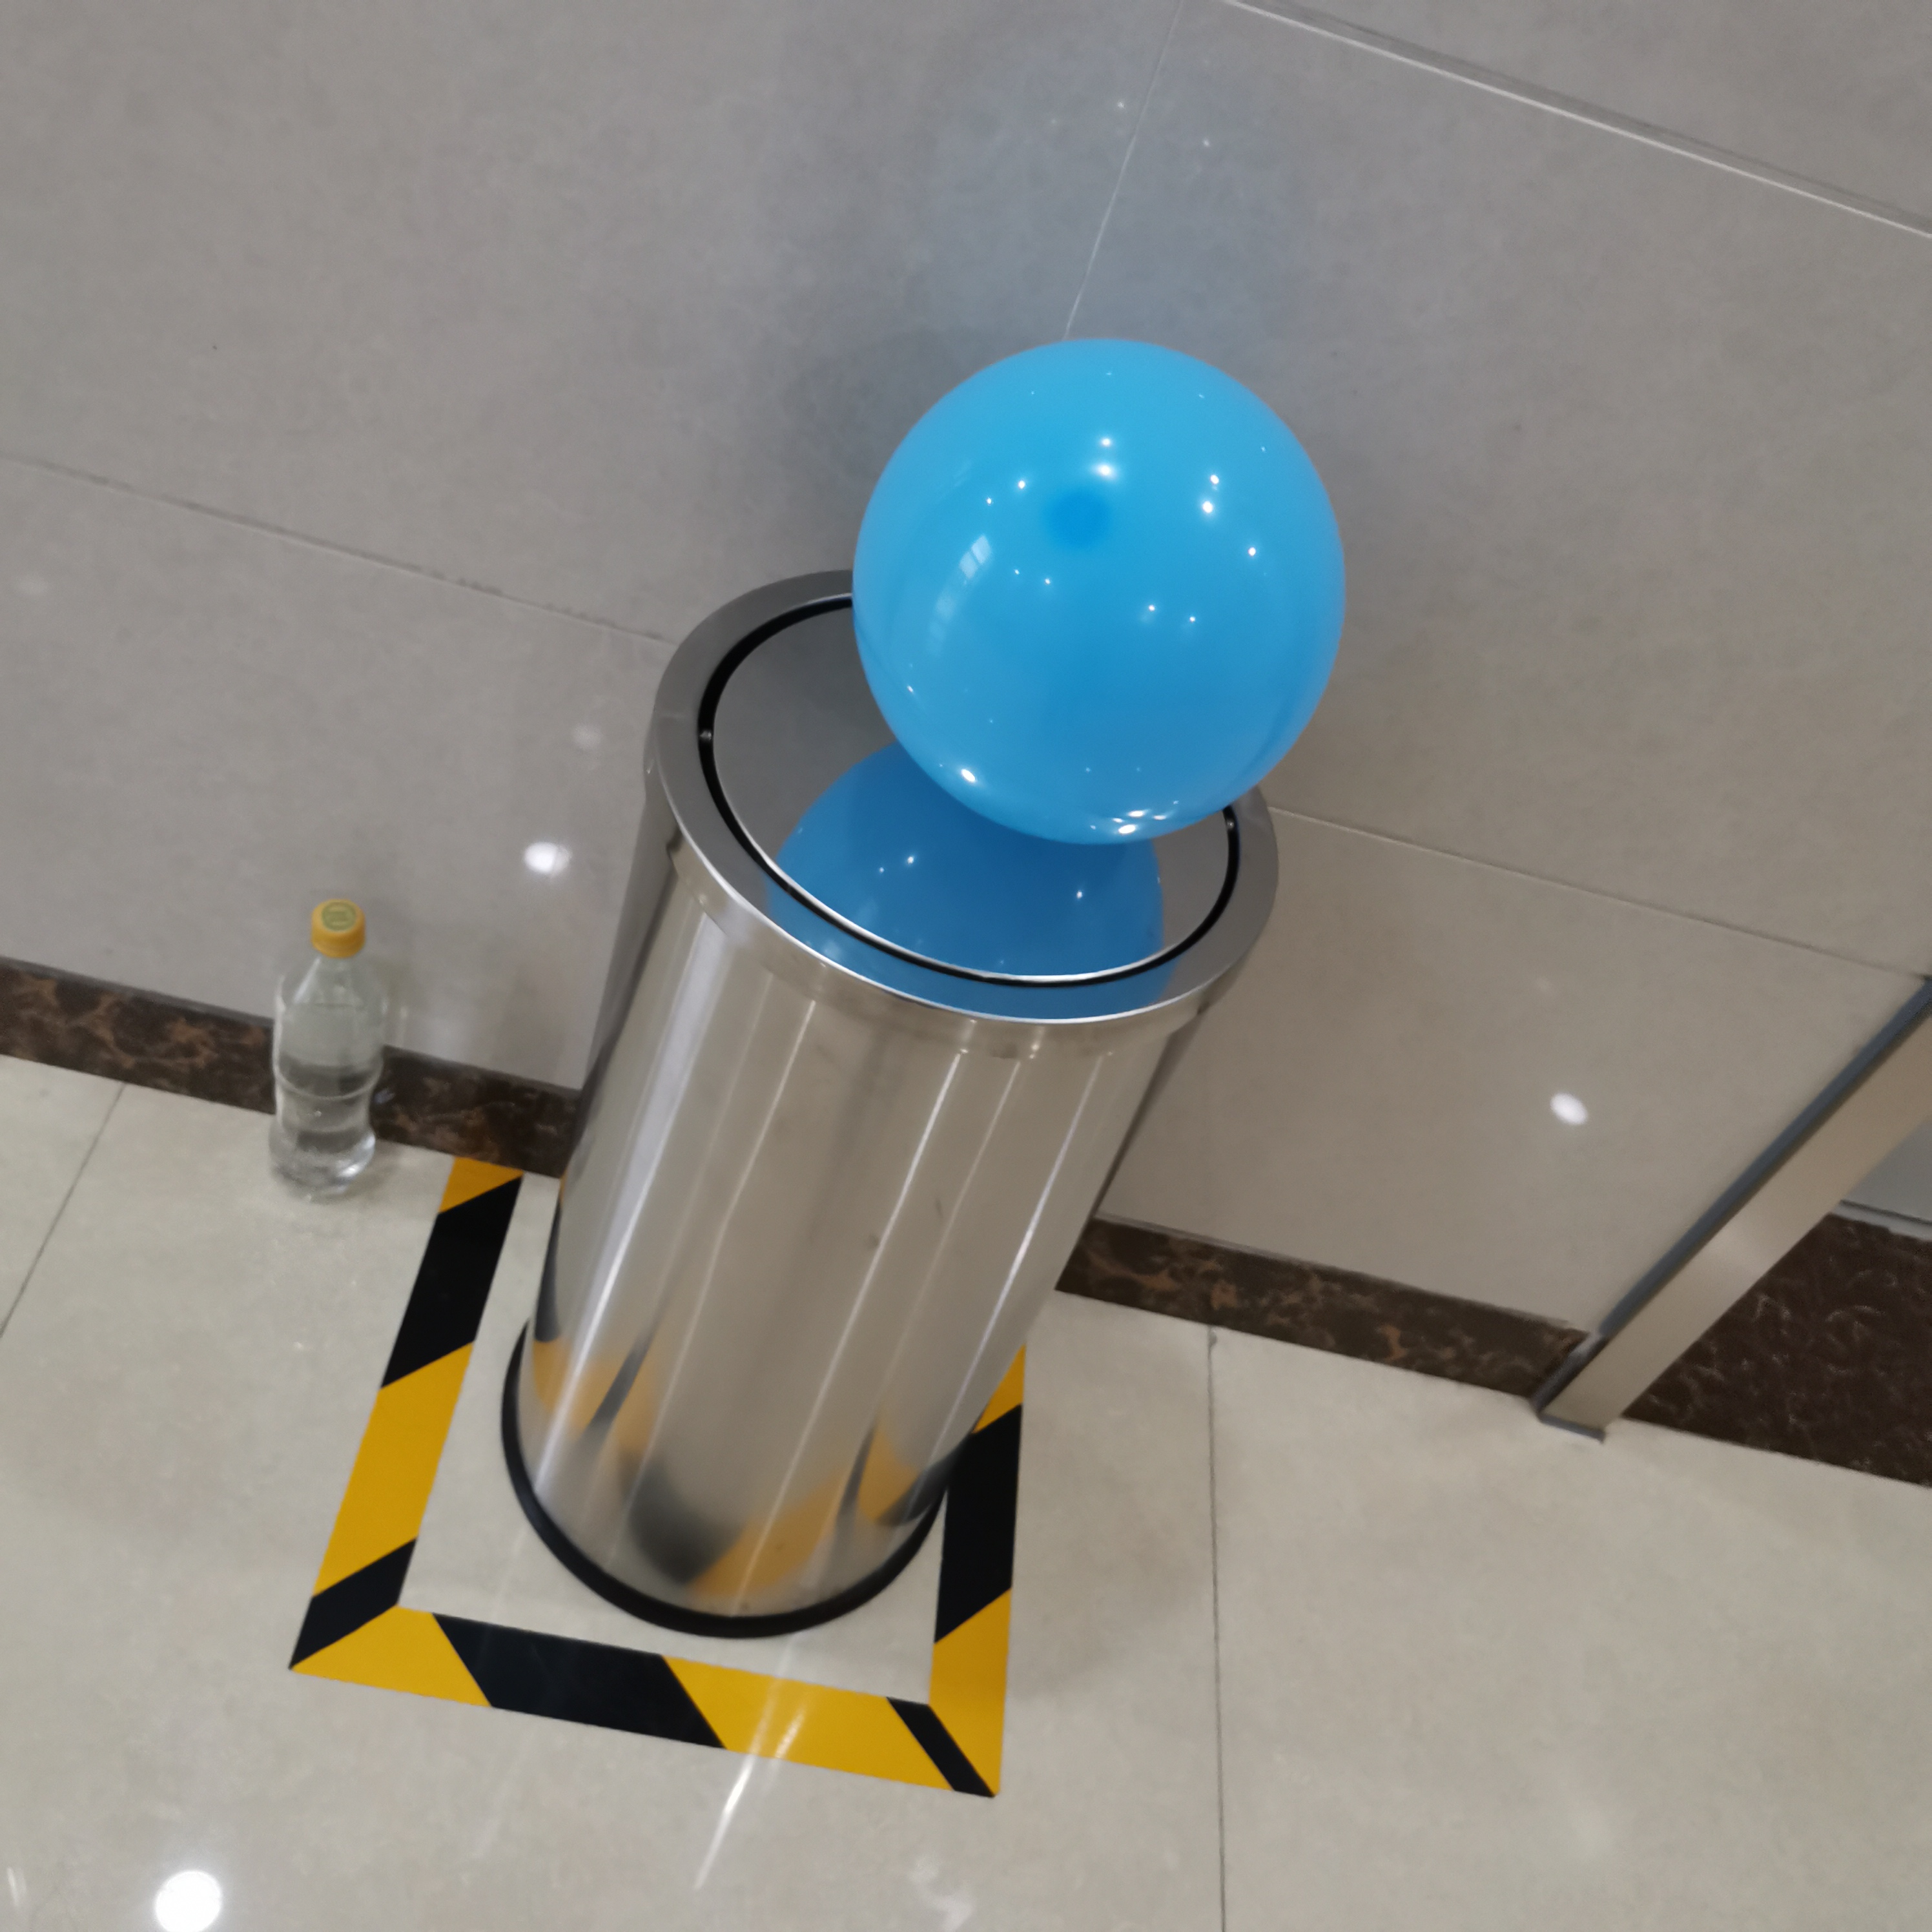balloon: (853, 338, 1353, 847)
